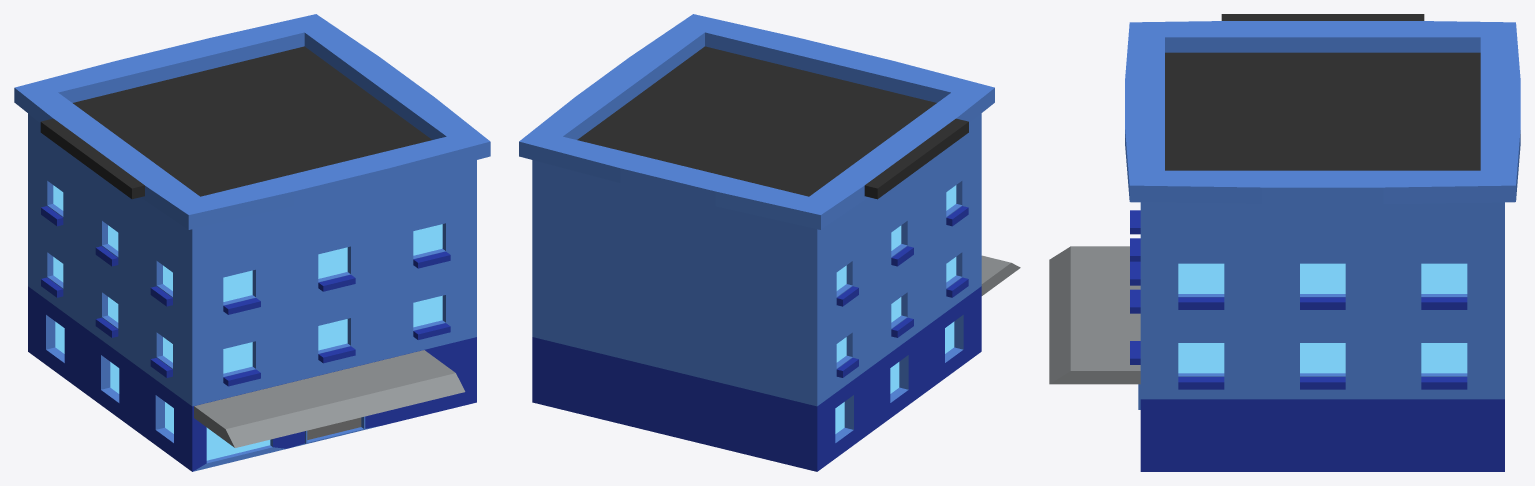
Rendered from gedung2.glb.
The picture shows the model from 3 angles, left to right: view 1: azimuth 30°, elevation 25°; view 2: azimuth 150°, elevation 25°; view 3: azimuth 270°, elevation 25°; orthographic projection. The views are drawn at different scales.
Parts seen in each view (by area): view 1: Plane; view 2: Plane; view 3: Plane.
Part boxes in pixels (x1,y1,x2,y2): Plane: (14, 14, 490, 471); Plane: (519, 14, 1020, 471); Plane: (1049, 14, 1520, 471).
Bounding box in the file's own units: 4.26 × 3.33 × 4.89.
